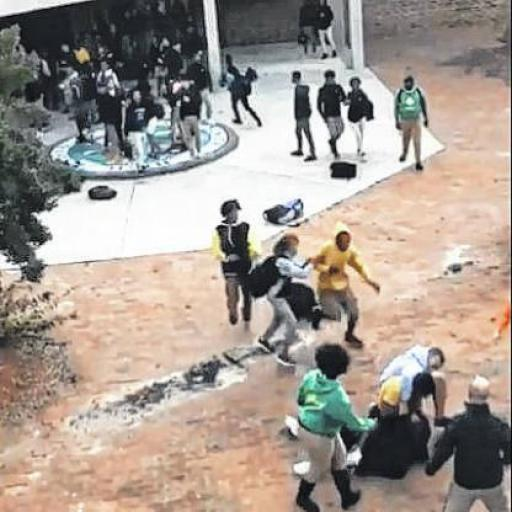Fighting: (370, 331, 456, 497)
